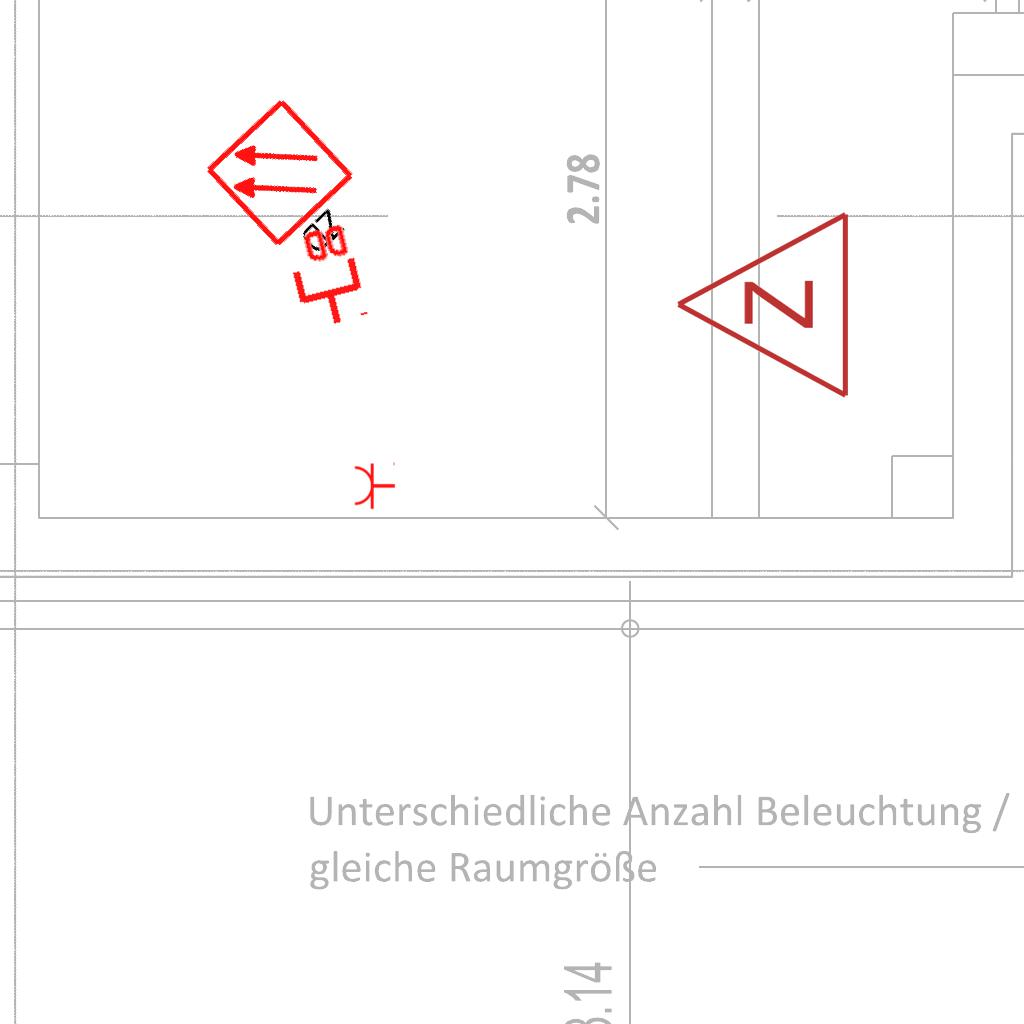Datenanschluss_zweifach: (278, 218, 371, 335)
Schukosteckdose_einfach: (353, 460, 396, 510)
ZD_Melder_in_Zwischendecke_mit_Revisionsoeffnung_mind_40_x_40_cm: (201, 92, 387, 279)
Zimmersignalleuchte: (663, 209, 863, 405)
